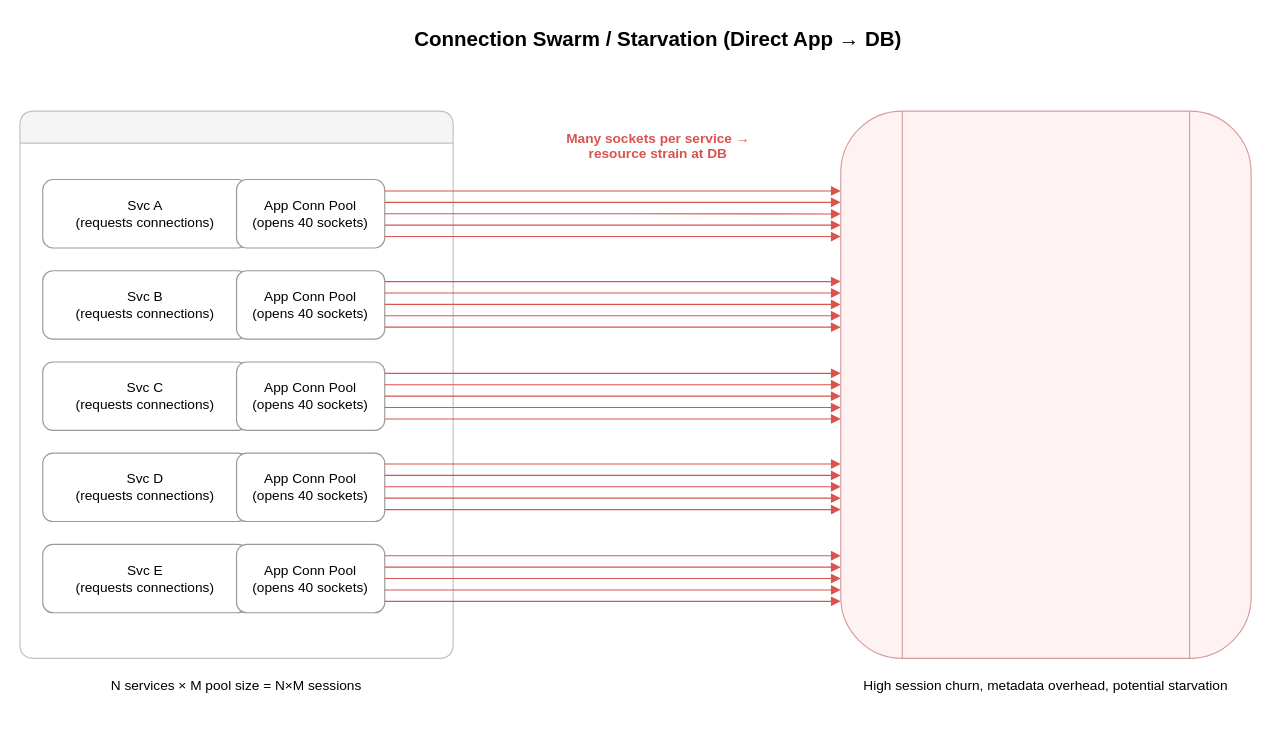
This 1271x734 diagram has some shape labels left out. Here are the shapes that lost their labels. From the top down, the box of each, then its label:
(19, 110, 453, 658): Multiple Microservices
(840, 110, 1251, 658): CockroachDB (connection overload)
